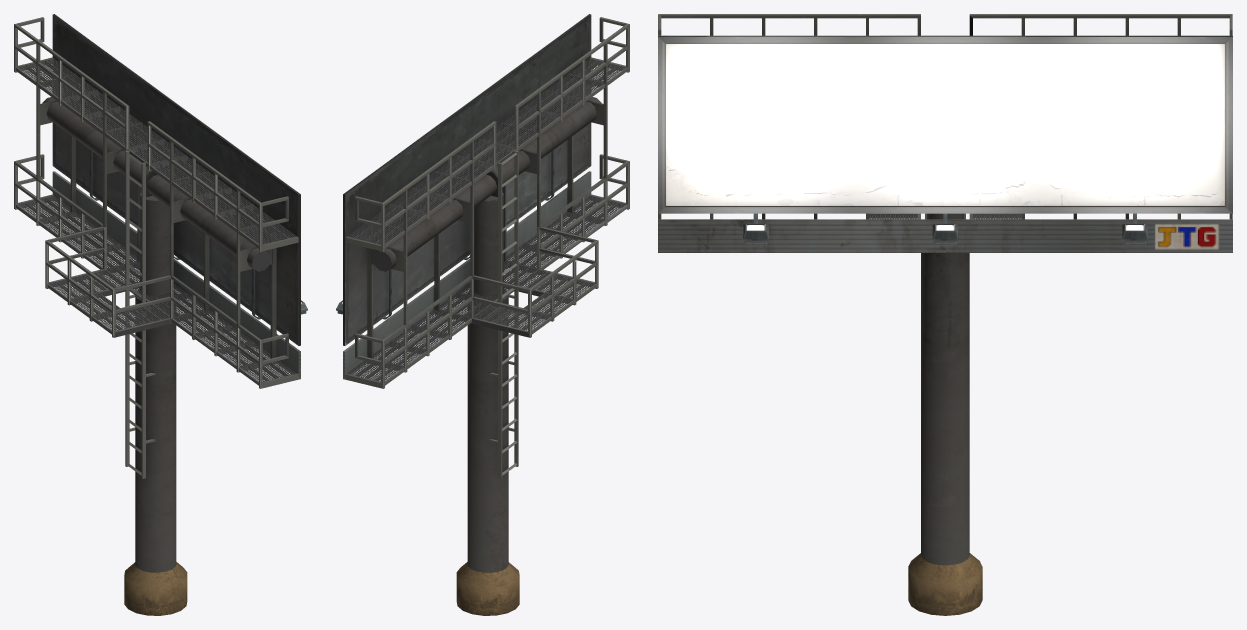
Rendered from metal_billboard_advertising_single_sided_free.glb.
3 views of the same model, side by side, from view 1: azimuth 30°, elevation 25°; view 2: azimuth 150°, elevation 25°; view 3: azimuth 270°, elevation 25° (orthographic). The views are drawn at different scales.
Parts seen in each view (by area): view 1: Platform_2, Billboard_Large_1, Post_0, Alpha_3; view 2: Platform_2, Billboard_Large_1, Post_0, Alpha_3; view 3: Billboard_Large_1, Post_0, Platform_2.
Part boxes in pixels (x1=…): Platform_2: x1=14, y1=17, x2=298, y2=478; Billboard_Large_1: x1=52, y1=14, x2=307, y2=379; Post_0: x1=40, y1=97, x2=271, y2=615; Alpha_3: x1=17, y1=58, x2=296, y2=381; Platform_2: x1=345, y1=17, x2=629, y2=478; Billboard_Large_1: x1=336, y1=14, x2=591, y2=379; Post_0: x1=371, y1=97, x2=603, y2=615; Alpha_3: x1=347, y1=58, x2=626, y2=381; Billboard_Large_1: x1=658, y1=35, x2=1232, y2=252; Post_0: x1=908, y1=213, x2=982, y2=615; Platform_2: x1=658, y1=14, x2=1232, y2=219.
Bounding box in the file's own units: 3.68 × 12.23 × 11.07.
1 material, 1 textured.
